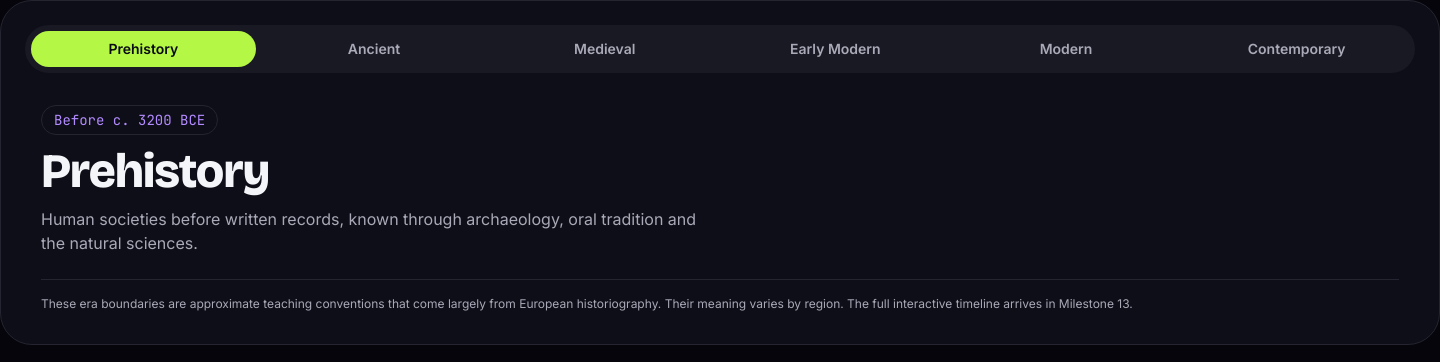
Scenario: EraTimeline › selects an era on click and labels the panel
Click the tab "Medieval" at [605, 49], box top-left (492, 31), bottom-right (717, 67)
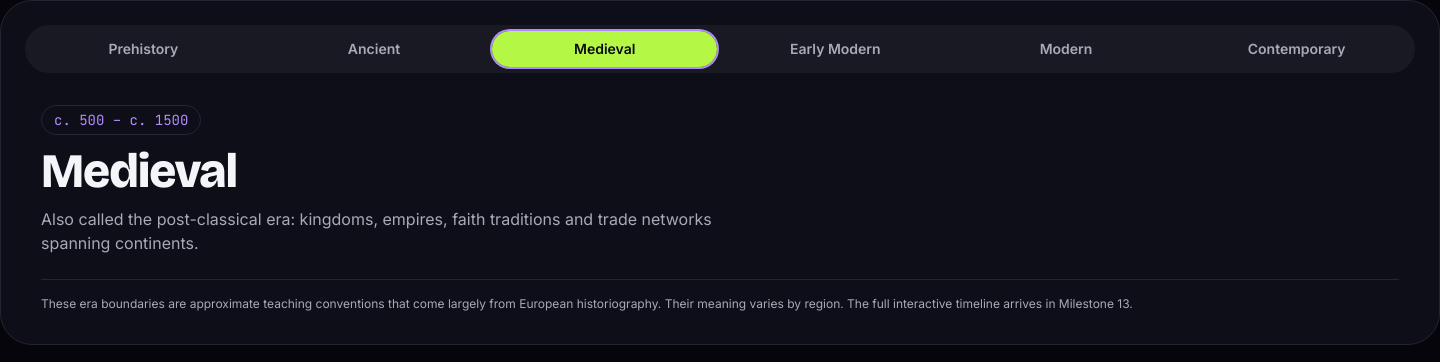
Result: the text "c. 500 – c. 1500" is shown at top-left (41, 105), bottom-right (201, 135)
